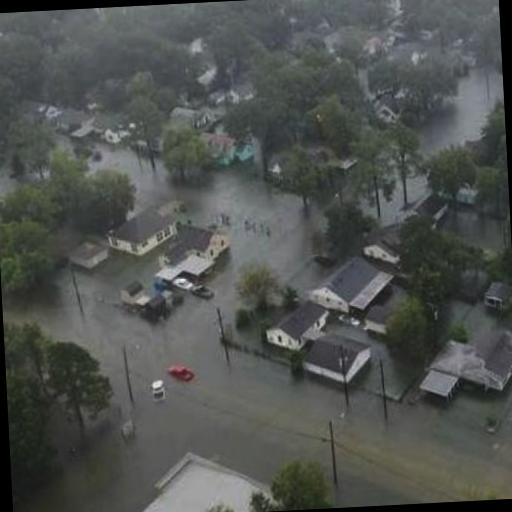flood: (2, 144, 512, 512), (415, 66, 504, 157), (380, 181, 405, 227), (408, 175, 432, 206)
house: (108, 448, 270, 512), (415, 327, 512, 401), (310, 255, 396, 322), (301, 327, 374, 388), (106, 207, 178, 259), (262, 300, 330, 354), (178, 223, 230, 259), (402, 194, 450, 222), (170, 102, 214, 131), (484, 279, 512, 314), (74, 240, 108, 268), (104, 127, 120, 144)
